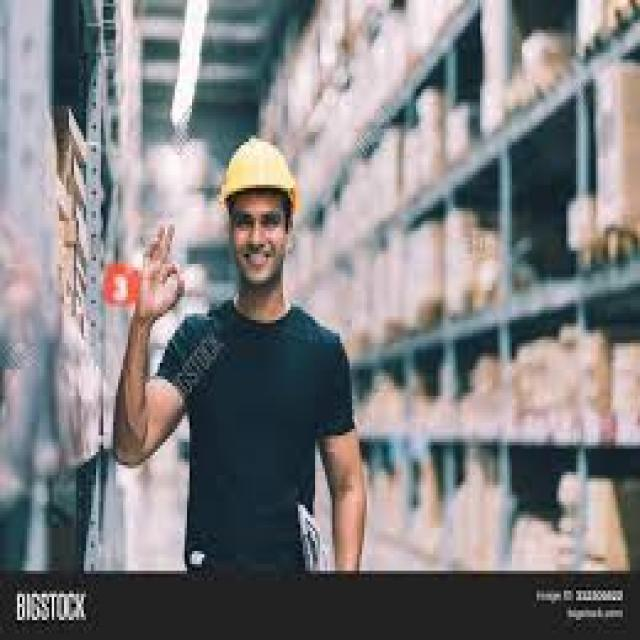safety_helmet: (209, 125, 315, 224)
